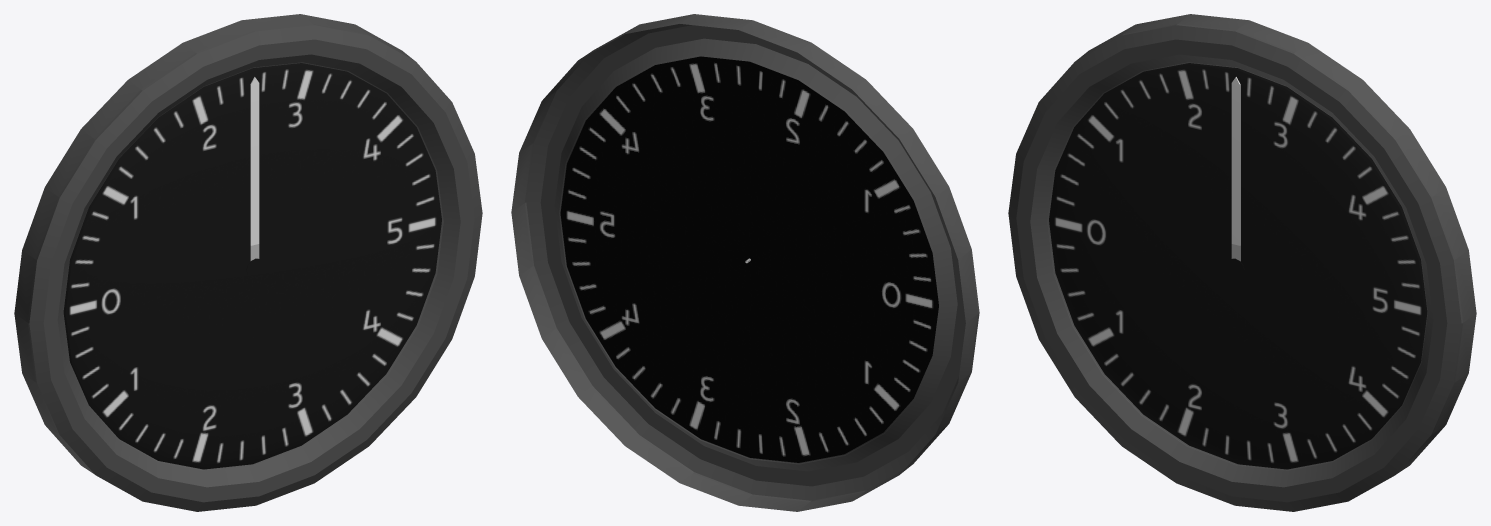
Rendered from Gauge_Oil.obj.
The picture shows the model from 3 angles, left to right: view 1: azimuth 30°, elevation 25°; view 2: azimuth 150°, elevation 25°; view 3: azimuth 330°, elevation 25°; orthographic projection.
Visible parts, largest first — view 1: Face, Rim, NeedleMain; view 2: Face, Rim; view 3: Face, Rim, NeedleMain.
Boxes of the visible parts, x1=… form: Face: x1=63, y1=63, x2=441, y2=469; Rim: x1=14, y1=14, x2=482, y2=511; NeedleMain: x1=250, y1=77, x2=259, y2=245; Face: x1=560, y1=56, x2=938, y2=462; Rim: x1=511, y1=14, x2=979, y2=511; Face: x1=1049, y1=63, x2=1427, y2=469; Rim: x1=1008, y1=14, x2=1476, y2=511; NeedleMain: x1=1231, y1=77, x2=1240, y2=245.
Bounding box in the file's own units: 0.0822 × 0.0822 × 0.00794.
